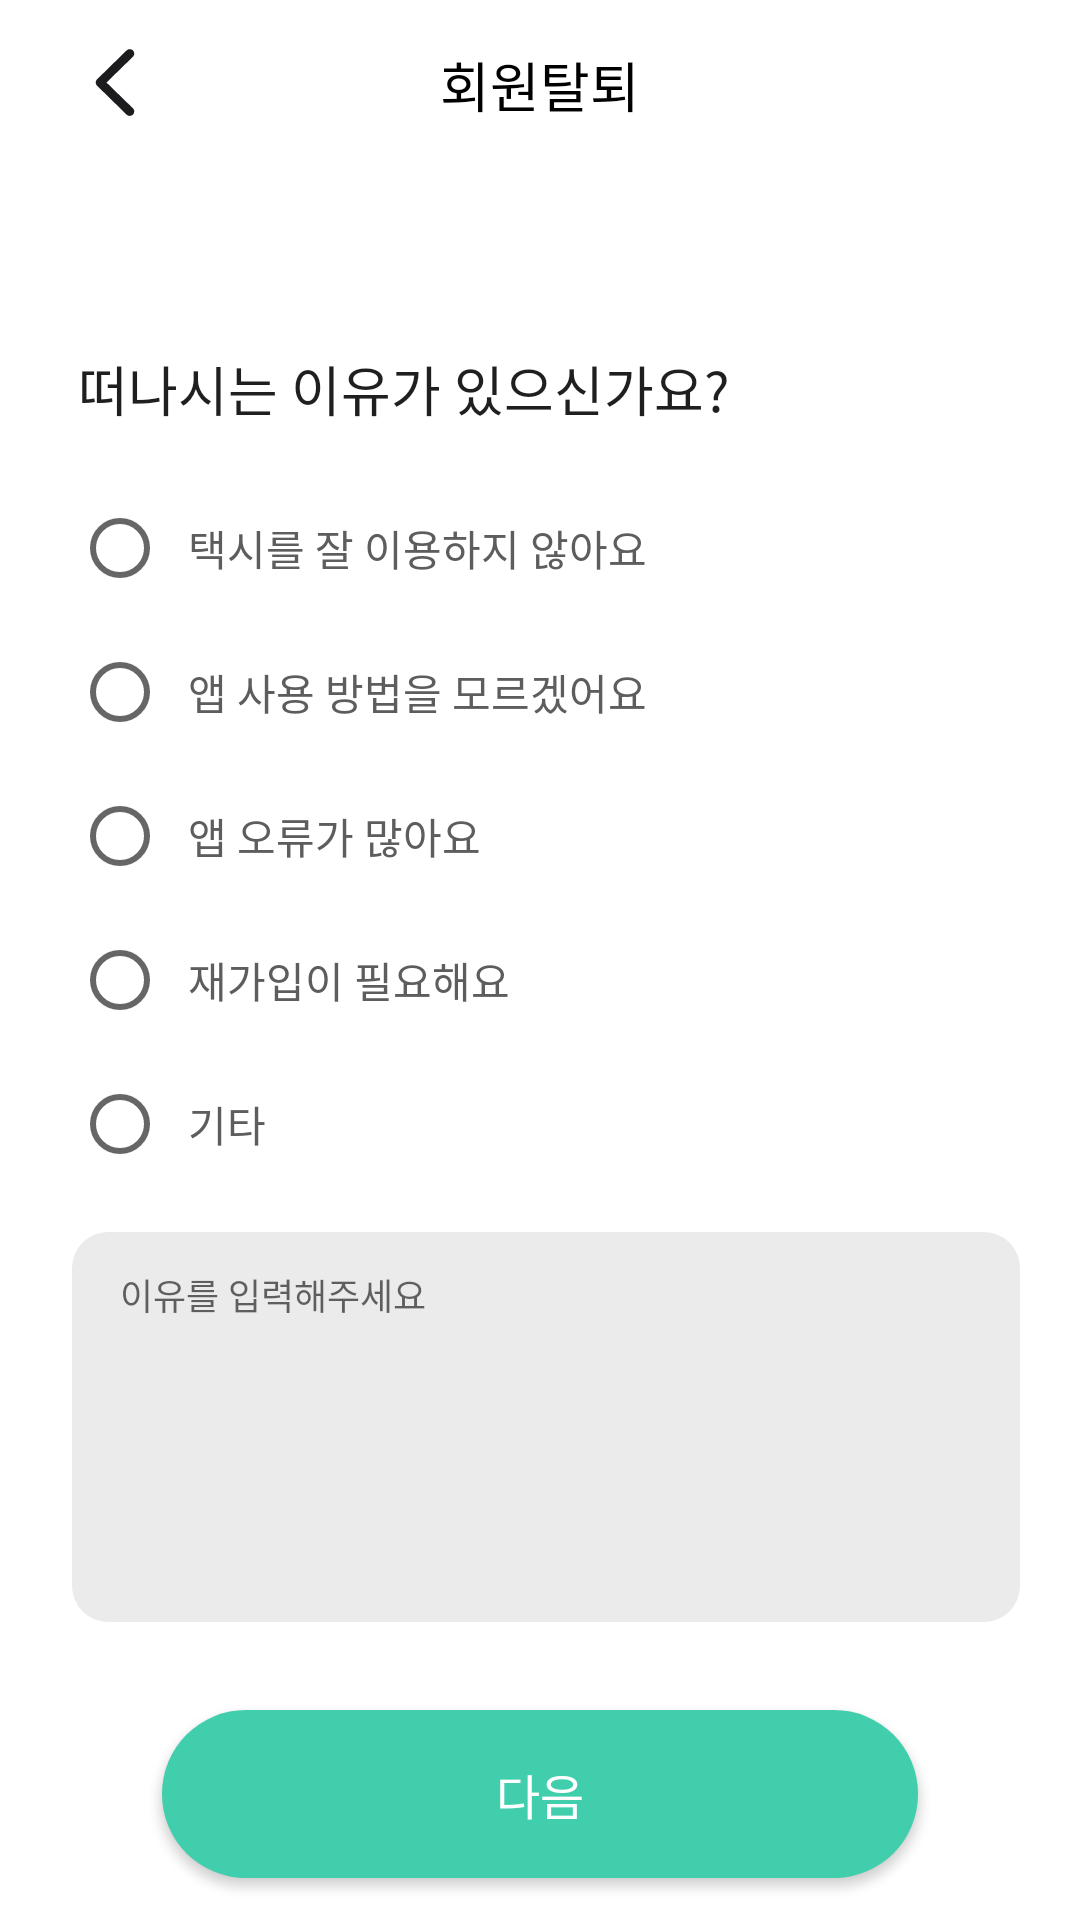

Where to tap for icons on this 1080 x 1920 app screen, as point (x, y):
backward: point (115, 82)
